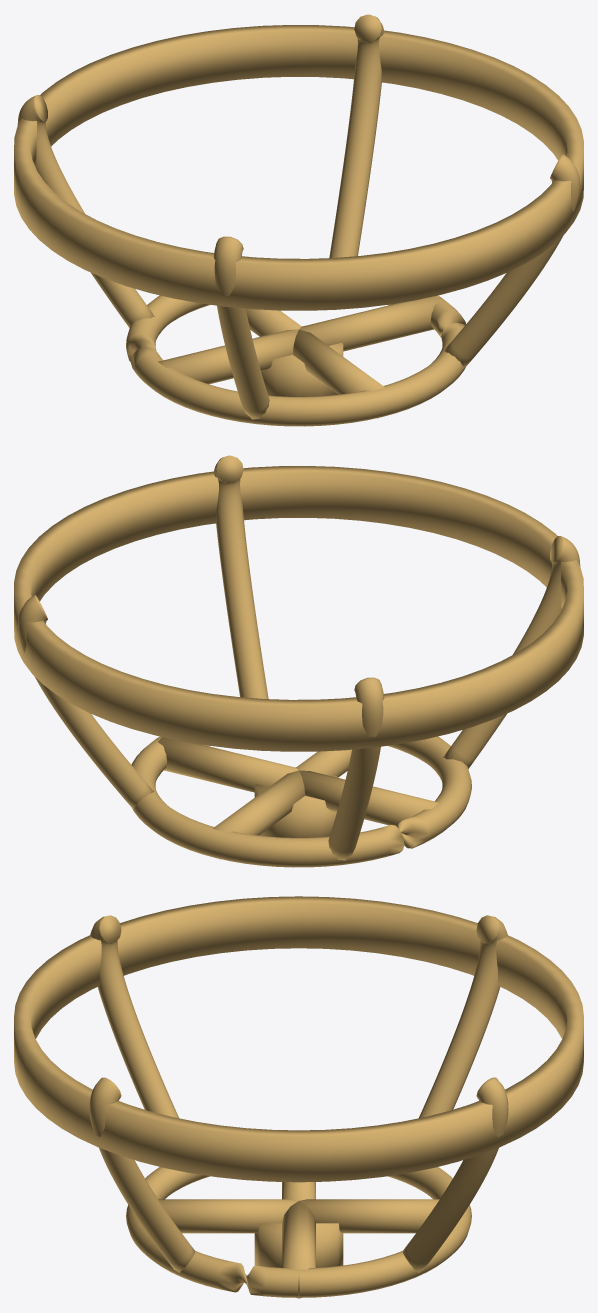
The model's file is stuller-lg-500090892-bezel.glb.
3 views of the same model, one above another, from view 1: azimuth 30°, elevation 25°; view 2: azimuth 150°, elevation 25°; view 3: azimuth 270°, elevation 25° (orthographic).
Parts seen in each view (by area): view 1: Metal.028, Metal.023, Metal.029, Metal.031, Metal.032, Metal.024, Metal.030, Metal.026, Metal.027, Metal.022, Metal.025; view 2: Metal.028, Metal.023, Metal.032, Metal.030, Metal.029, Metal.024, Metal.031, Metal.026, Metal.025, Metal.022, Metal.027; view 3: Metal.028, Metal.023, Metal.030, Metal.031, Metal.029, Metal.032, Metal.025, Metal.027, Metal.022, Metal.024, Metal.026.
Part boxes in pixels (left/top/right/bottom): Metal.028: left=14, top=25, right=583, bottom=310; Metal.023: left=126, top=295, right=465, bottom=426; Metal.029: left=329, top=14, right=384, bottom=257; Metal.031: left=213, top=236, right=269, bottom=419; Metal.032: left=444, top=154, right=580, bottom=368; Metal.024: left=299, top=296, right=439, bottom=351; Metal.030: left=17, top=95, right=154, bottom=327; Metal.026: left=158, top=329, right=298, bottom=384; Metal.027: left=292, top=329, right=384, bottom=418; Metal.022: left=259, top=334, right=343, bottom=396; Metal.025: left=246, top=308, right=301, bottom=336; Metal.028: left=14, top=466, right=583, bottom=751; Metal.023: left=131, top=736, right=471, bottom=867; Metal.032: left=213, top=455, right=268, bottom=698; Metal.030: left=328, top=677, right=384, bottom=860; Metal.029: left=17, top=595, right=153, bottom=809; Metal.024: left=158, top=737, right=298, bottom=792; Metal.031: left=443, top=536, right=580, bottom=768; Metal.026: left=299, top=770, right=439, bottom=827; Metal.025: left=213, top=770, right=305, bottom=859; Metal.022: left=254, top=775, right=338, bottom=837; Metal.027: left=296, top=749, right=351, bottom=777; Metal.028: left=14, top=896, right=583, bottom=1182; Metal.023: left=126, top=1167, right=471, bottom=1297; Metal.030: left=419, top=915, right=507, bottom=1118; Metal.031: left=90, top=915, right=178, bottom=1118; Metal.029: left=402, top=1077, right=508, bottom=1272; Metal.032: left=89, top=1077, right=195, bottom=1272; Metal.025: left=299, top=1199, right=439, bottom=1233; Metal.027: left=158, top=1199, right=298, bottom=1233; Metal.022: left=254, top=1223, right=343, bottom=1267; Metal.024: left=282, top=1201, right=315, bottom=1298; Metal.026: left=282, top=1182, right=315, bottom=1200.
Size of the model in its own units: 7.69 by 4.01 by 7.69.
